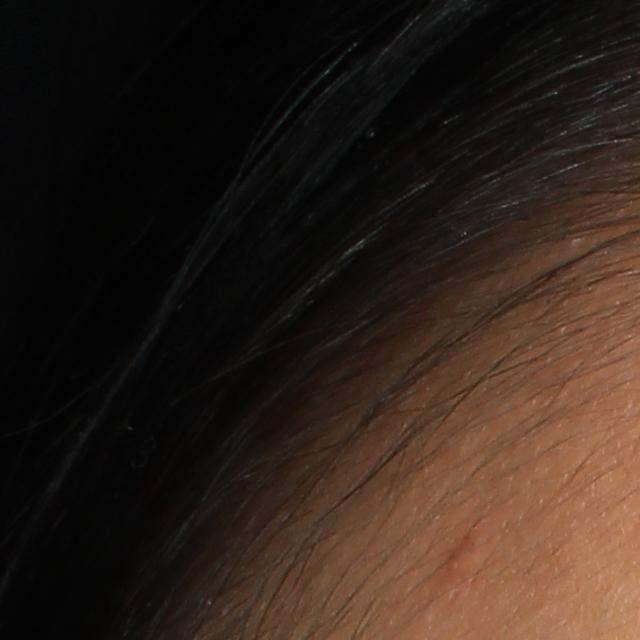papule: (445, 537, 486, 584)
